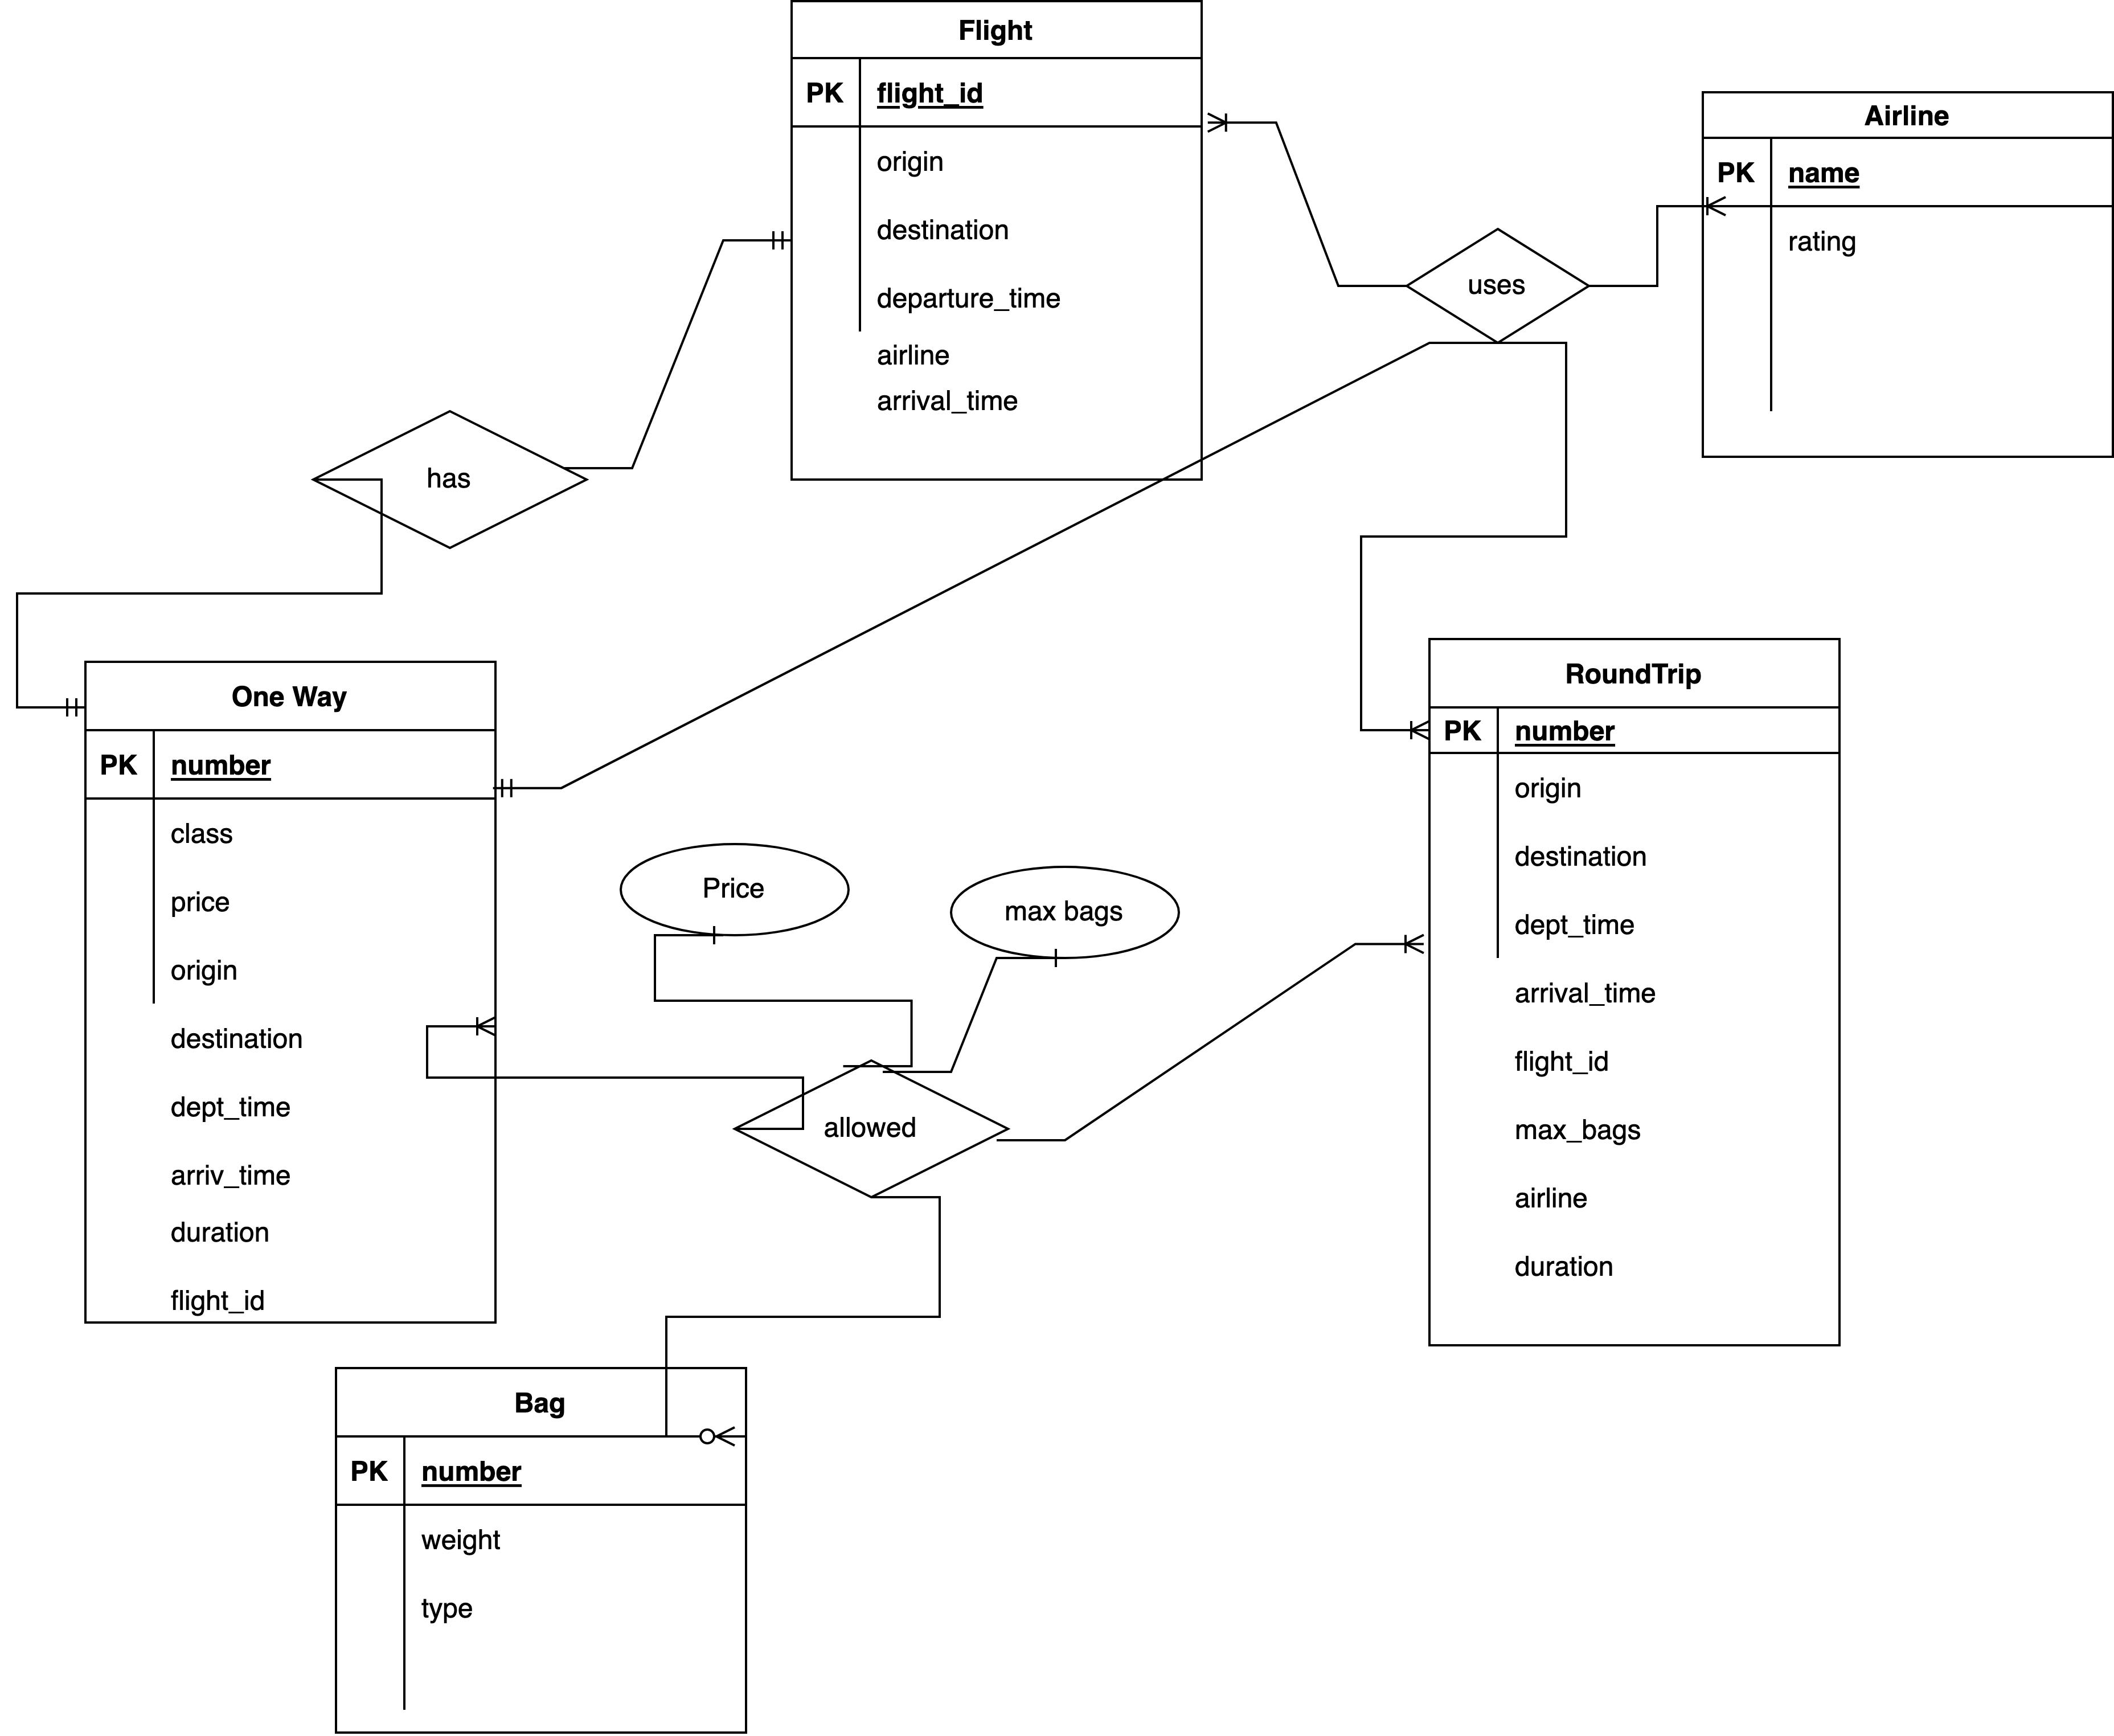attribute: (941, 864, 1175, 962), (625, 844, 855, 937)
entity: (1424, 634, 1844, 1352), (77, 658, 500, 1332), (785, 0, 1206, 486), (325, 1367, 748, 1736), (1700, 90, 2114, 465)
relationship: (313, 409, 592, 551), (736, 1060, 1013, 1195), (1401, 226, 1591, 346)
